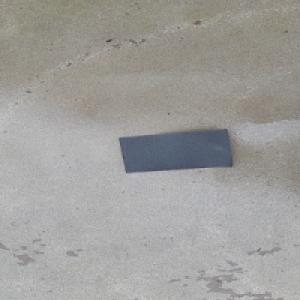PaintChip: (117, 128, 231, 173)
